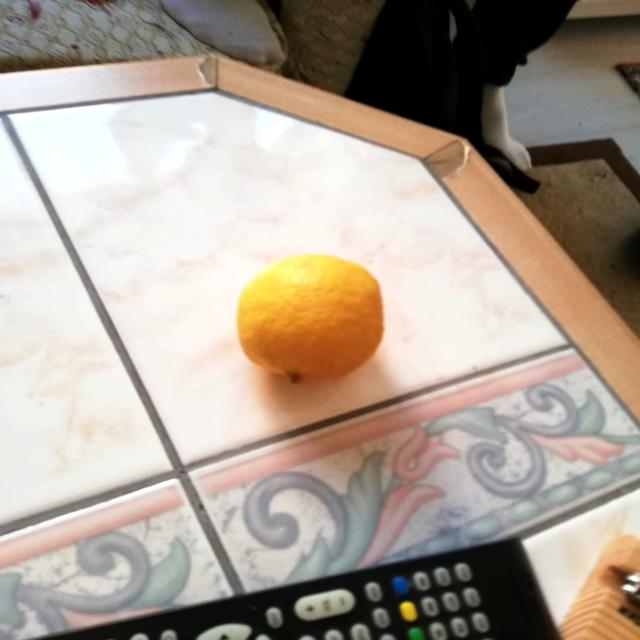lemon: (228, 242, 396, 392)
